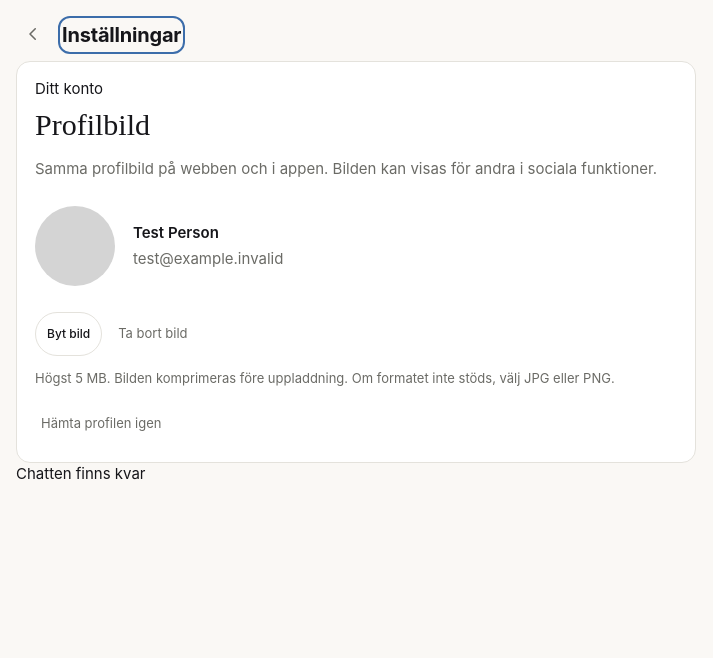
Test case: profile picture settings › keeps the saved image if deletion cannot be confirmed
Click the button "Ta bort bild" at [153, 334], box left=112, top=312, right=194, bottom=356
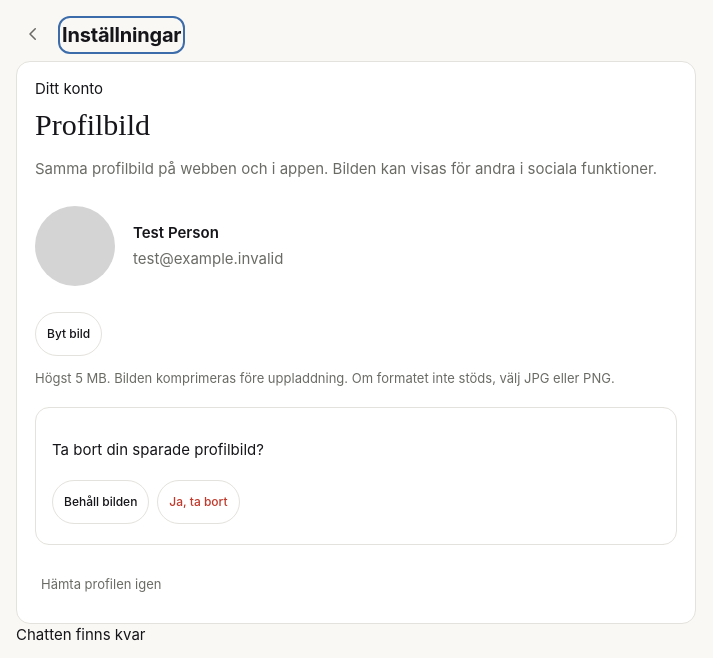
Click the button "Ja, ta bort" at [198, 502], box left=157, top=480, right=240, bottom=524
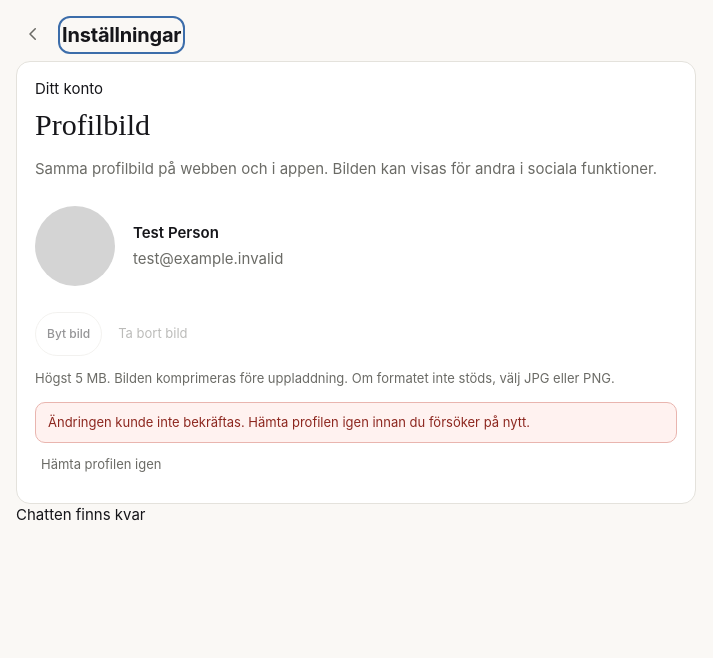
Check: the button "Ta bort bild" is disabled, box left=112, top=312, right=194, bottom=356
